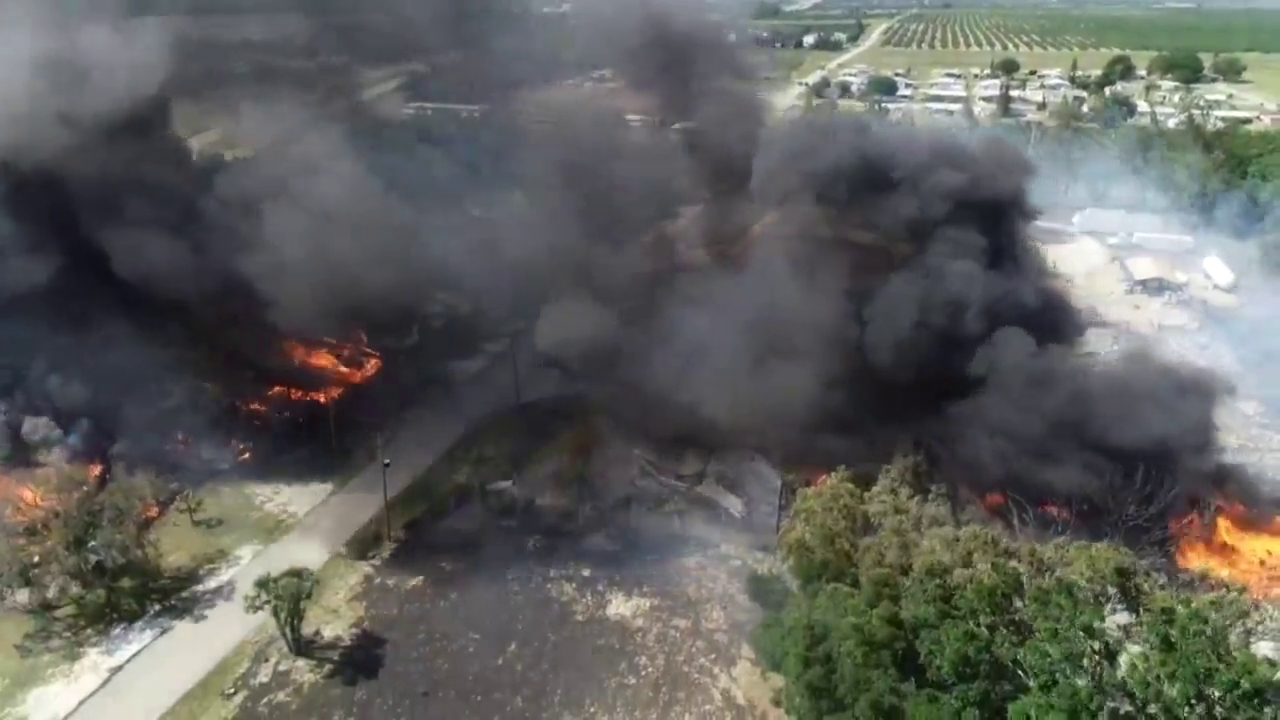forest_fire: (241, 334, 382, 411), (1170, 499, 1279, 598), (0, 473, 52, 516), (975, 490, 1009, 515), (84, 461, 108, 485)
